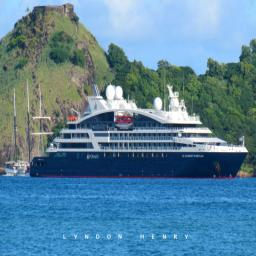cruises: (30, 81, 253, 184)
